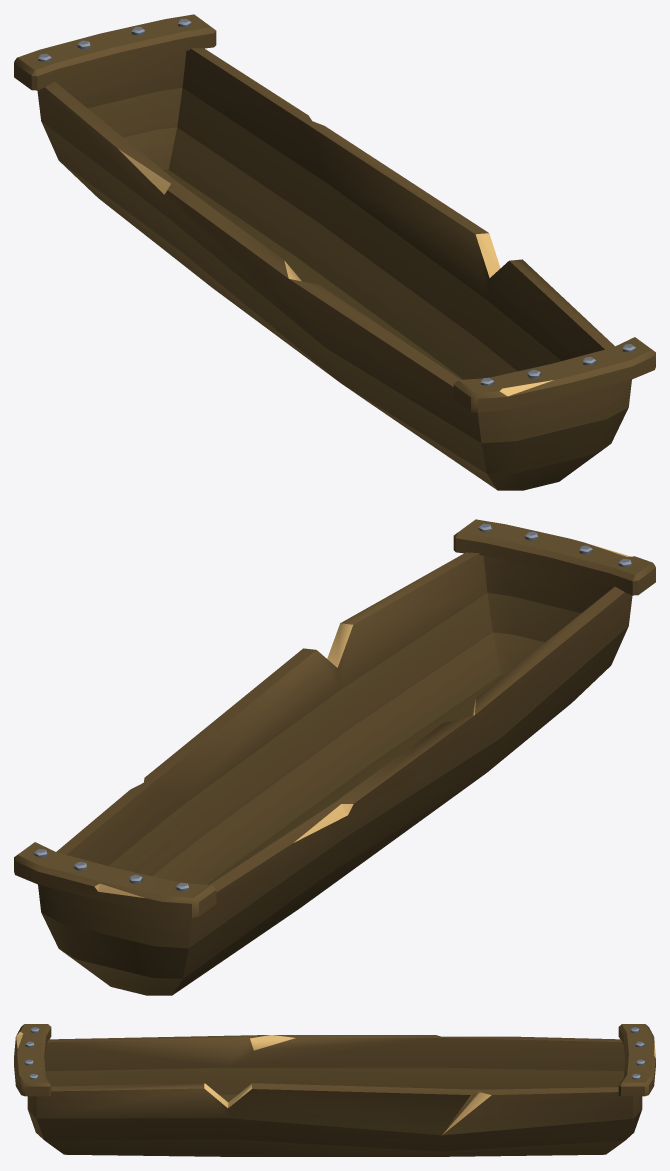
File: Trough_1_D.glb
3 renders of one model, top to bottom at view 1: azimuth 30°, elevation 25°; view 2: azimuth 150°, elevation 25°; view 3: azimuth 270°, elevation 25°, orthographic. The views are drawn at different scales.
Parts seen in each view (by area): view 1: Trough_1_D; view 2: Trough_1_D; view 3: Trough_1_D.
Boxes of the visible parts, x1,y1,x2,y2 form: Trough_1_D: (14,14,655,490); Trough_1_D: (14,519,655,995); Trough_1_D: (14,1024,655,1156).
Bounding box in the file's own units: 0.7368 × 0.509 × 3.25.
Materials: 2 (2 with a texture image).
